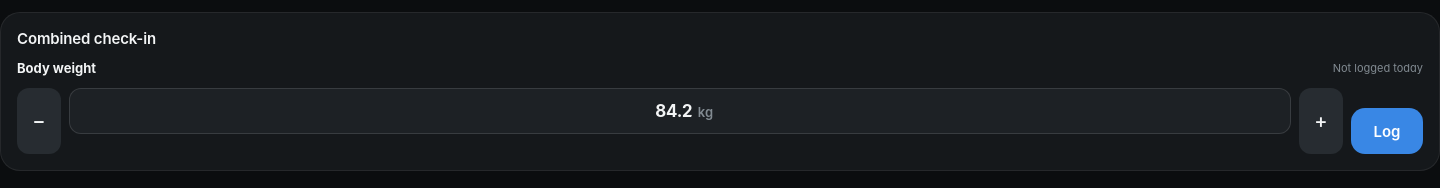
Test case: daily bodyweight check-in › undoes the save and removes the popup and timer
The image size is (1440, 188).
Submit the form, box [17,88,1423,154]
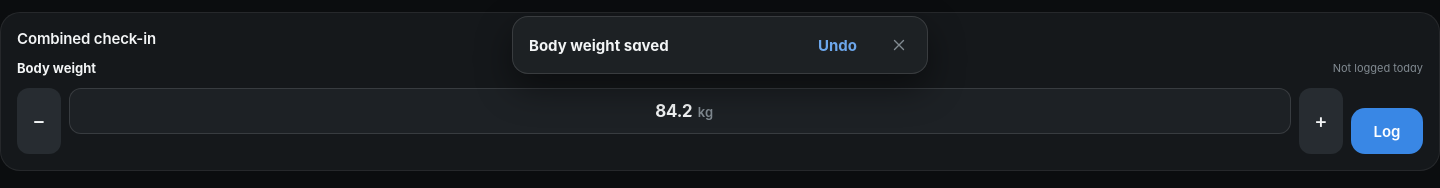
Click the button with class "undo-toast-action": click(838, 45) [804,25,871,65]
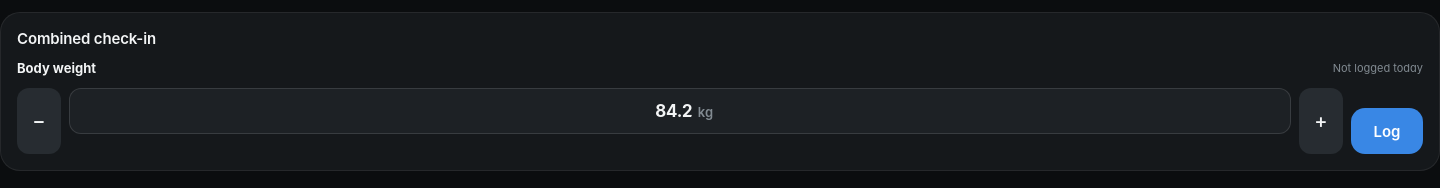
Expected: the message with class "bodyweight-undo-toast" is gone
